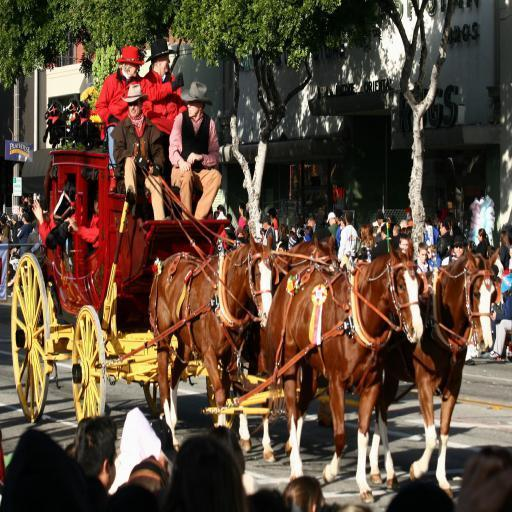horse: (267, 237, 424, 504), (366, 248, 502, 500), (148, 228, 278, 452), (220, 240, 336, 456)
